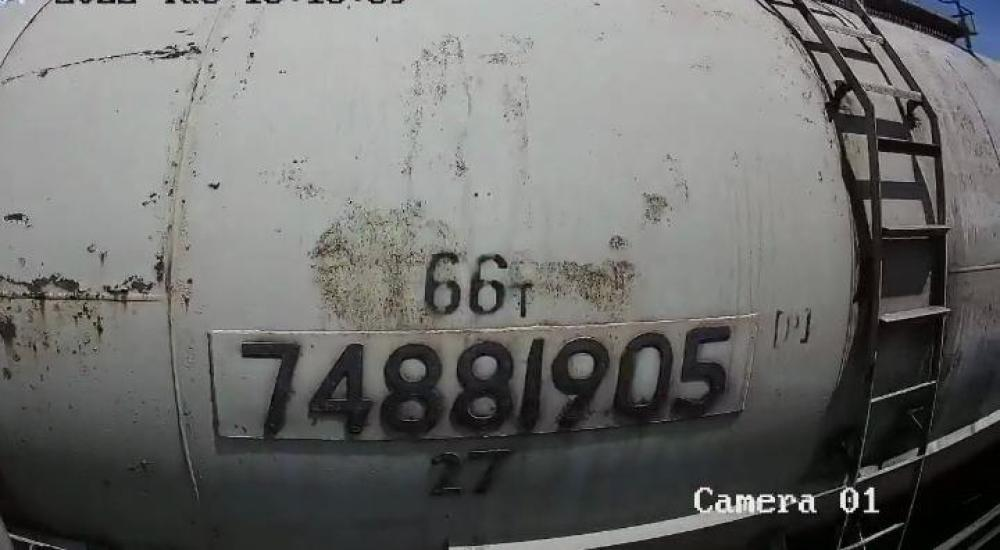Wagon-number: (221, 322, 743, 440)
